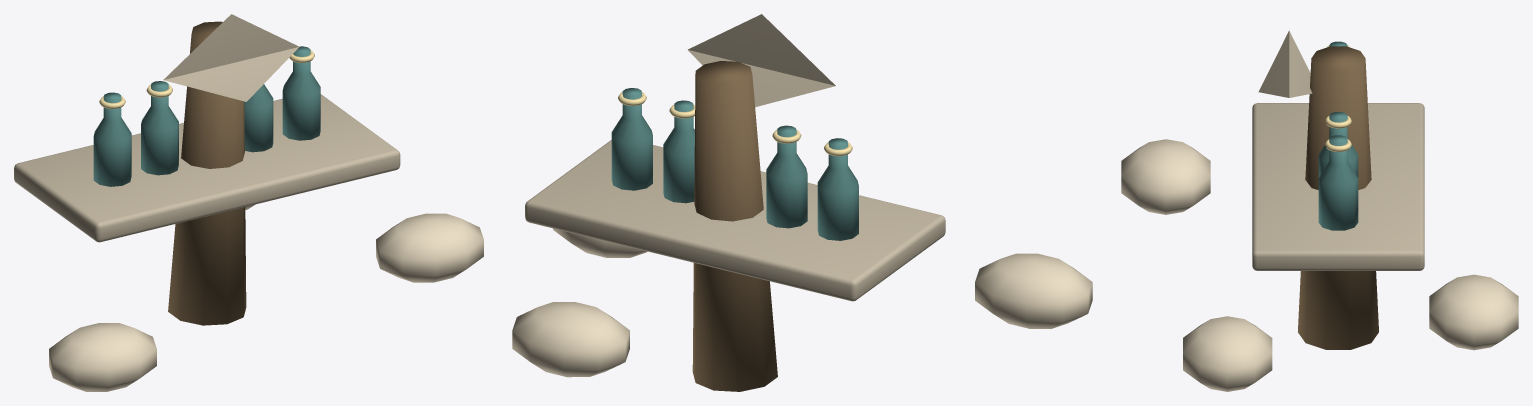
File: discovery_bottle-post.glb
3 renders of one model, left to right at view 1: azimuth 30°, elevation 25°; view 2: azimuth 150°, elevation 25°; view 3: azimuth 270°, elevation 25°, orthographic. The views are drawn at different scales.
Visible parts, largest first — view 1: discovery_bottle-post_part_0, discovery_bottle-post_part_1; view 2: discovery_bottle-post_part_0, discovery_bottle-post_part_1; view 3: discovery_bottle-post_part_0, discovery_bottle-post_part_1.
Boxes of the visible parts, x1,y1,x2,y2 form: discovery_bottle-post_part_0: (14,21,483,391); discovery_bottle-post_part_1: (163,14,299,101); discovery_bottle-post_part_0: (512,61,1092,391); discovery_bottle-post_part_1: (688,14,835,107); discovery_bottle-post_part_0: (1121,41,1518,391); discovery_bottle-post_part_1: (1258,30,1312,97).
Size of the model in its own units: 4.35 by 2.86 by 3.22.
